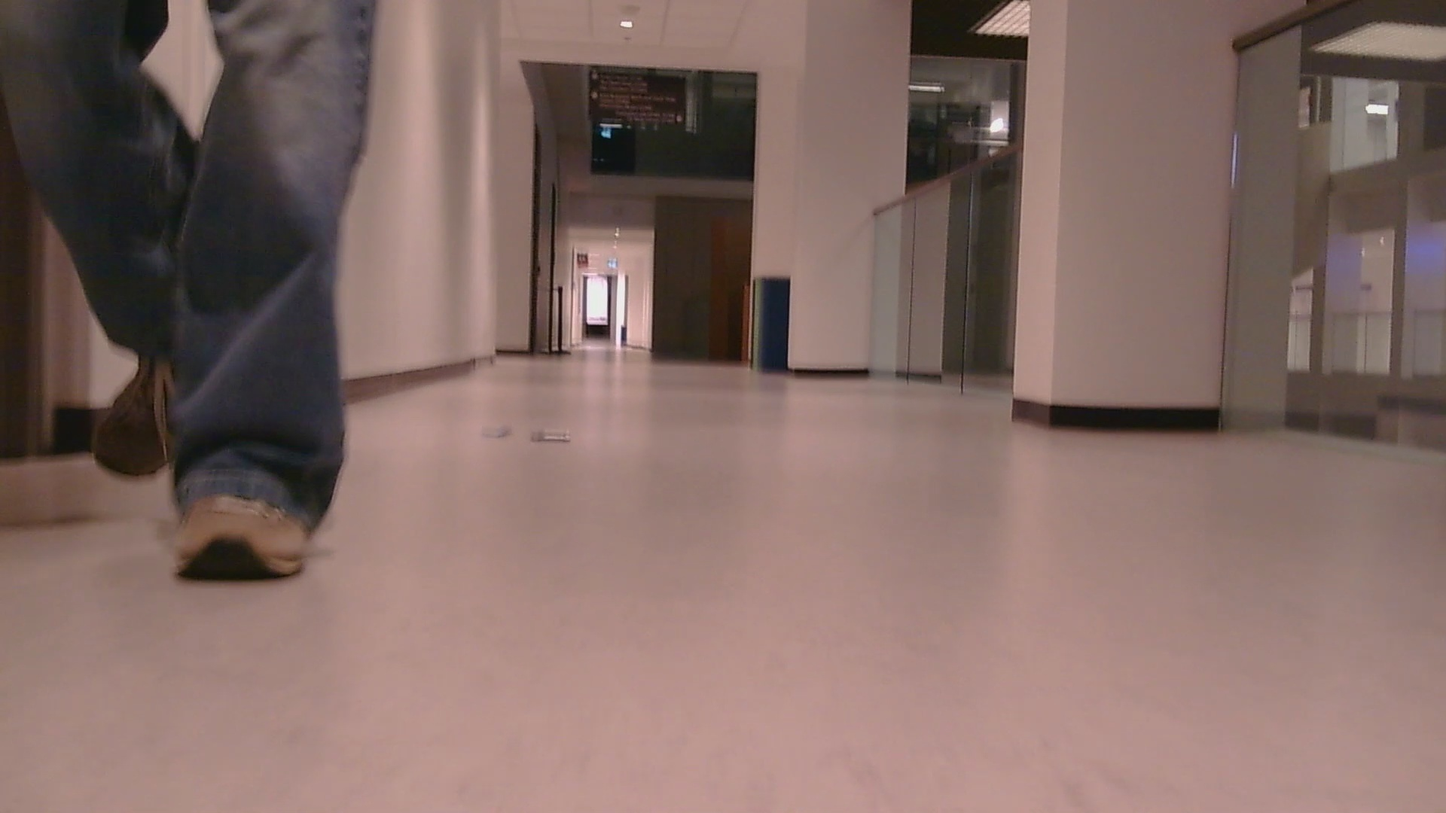carton: (538, 422, 594, 454), (474, 417, 514, 442)
